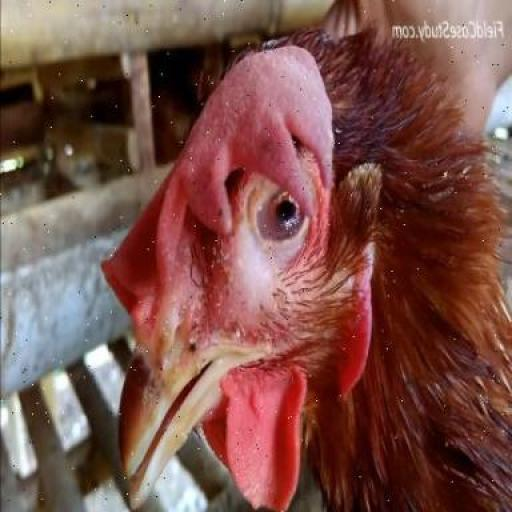disease: (206, 159, 350, 350)
